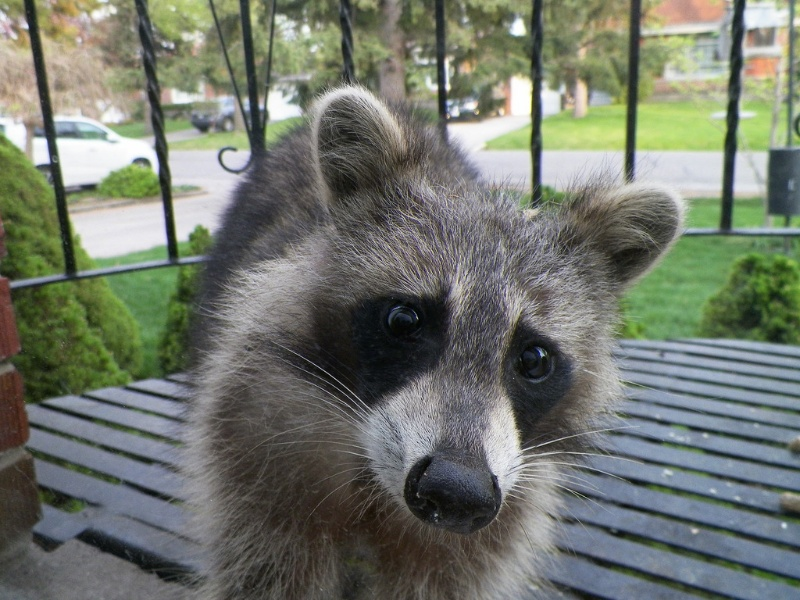raccoon: (180, 79, 688, 569)
